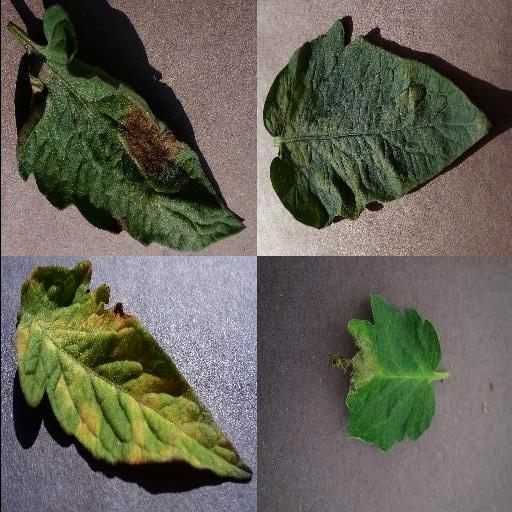Late Blight: (15, 2, 247, 252), (325, 293, 441, 455)
Leaf Mold: (12, 262, 252, 480)
Spider Mites: (261, 21, 493, 231)
